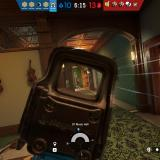Character: (75, 77, 81, 90)
Friend_label: (108, 91, 118, 96)
Head: (76, 78, 78, 80)
